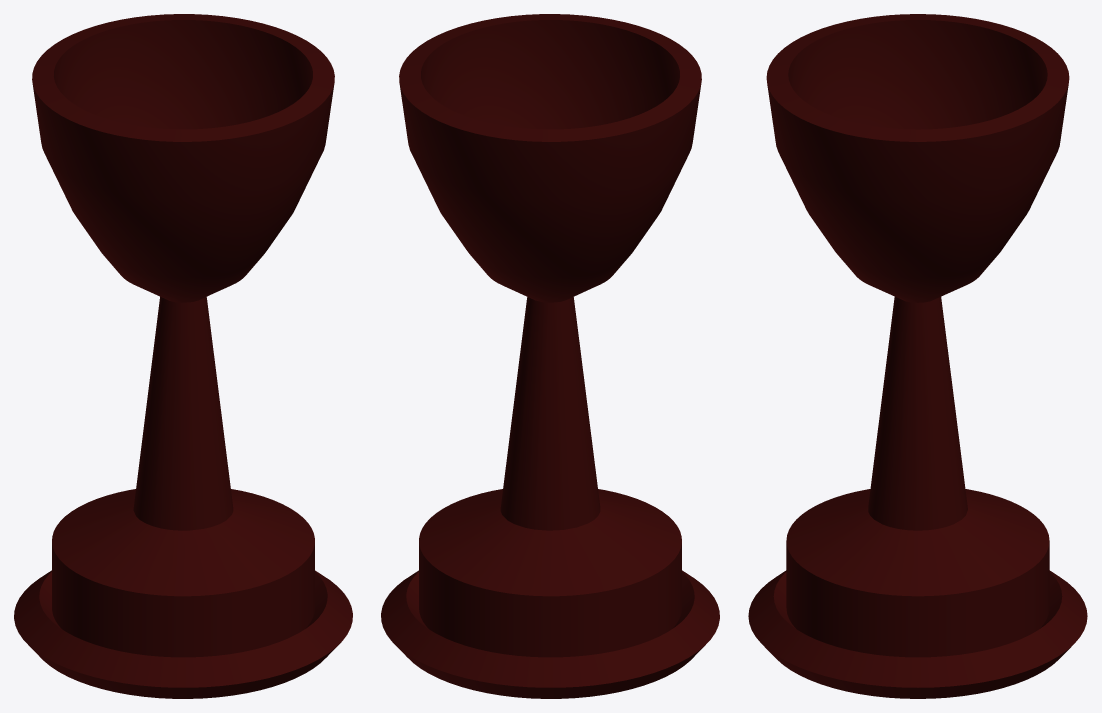
Rendered from cup14.obj.
3 views of the same model, side by side, from view 1: azimuth 30°, elevation 25°; view 2: azimuth 150°, elevation 25°; view 3: azimuth 270°, elevation 25° (orthographic).
Parts seen in each view (by area): view 1: Cup14.001; view 2: Cup14.001; view 3: Cup14.001.
Boxes of the visible parts, bbox=[...] form: Cup14.001: bbox=[14, 14, 352, 698]; Cup14.001: bbox=[381, 14, 719, 698]; Cup14.001: bbox=[748, 14, 1087, 698].
Bounding box in the file's own units: 1.47 × 2.68 × 1.47.
